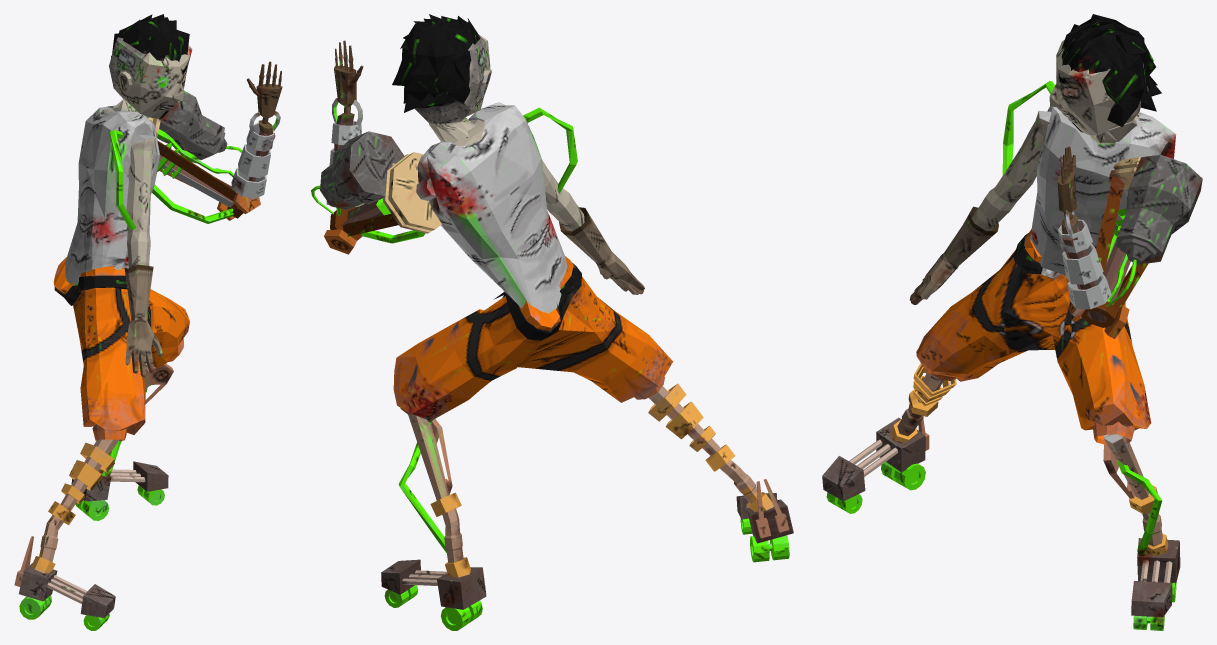
File: CyborgFINALAnimation_000012.obj
3 views of the same model, side by side, from view 1: azimuth 30°, elevation 25°; view 2: azimuth 150°, elevation 25°; view 3: azimuth 270°, elevation 25° (orthographic). The views are drawn at different scales.
Visible parts, largest first — view 1: CyborgMesh_Cube.002; view 2: CyborgMesh_Cube.002; view 3: CyborgMesh_Cube.002.
Part boxes in pixels (x1,y1,x2,y2): CyborgMesh_Cube.002: (14,14,282,630); CyborgMesh_Cube.002: (311,14,793,630); CyborgMesh_Cube.002: (822,14,1202,630).
Size of the model in its own units: 5.93 by 8.59 by 4.92.
